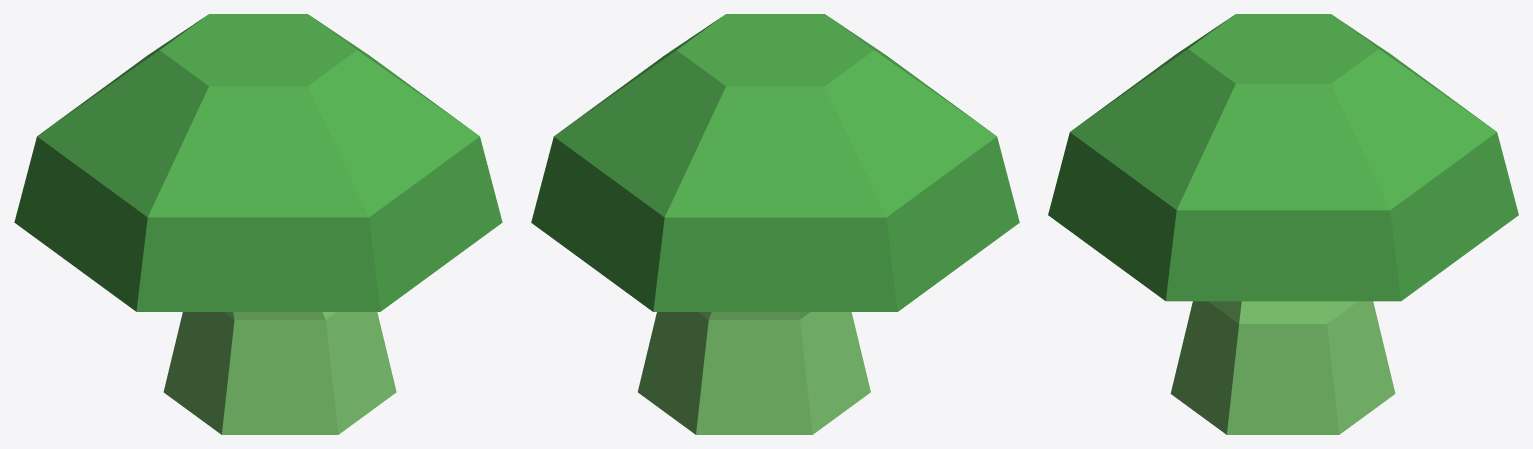
File: mushroom.fbx
The picture shows the model from 3 angles, left to right: view 1: azimuth 30°, elevation 25°; view 2: azimuth 150°, elevation 25°; view 3: azimuth 270°, elevation 25°; orthographic projection. The views are drawn at different scales.
Visible parts, largest first — view 1: mushroom; view 2: mushroom; view 3: mushroom.
Boxes of the visible parts, x1,y1,x2,y2 form: mushroom: (14,14,502,434); mushroom: (531,14,1019,434); mushroom: (1048,14,1518,434).
Bounding box in the file's own units: 15.48 × 14.02 × 17.87.
